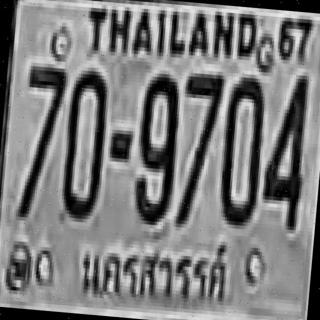N00: (58, 66, 108, 216), (216, 72, 265, 223)
N04: (259, 69, 310, 227)
N07: (16, 62, 67, 216), (174, 69, 222, 226), (20, 62, 67, 170)
N09: (132, 68, 180, 222)
P31: (70, 228, 238, 320)
